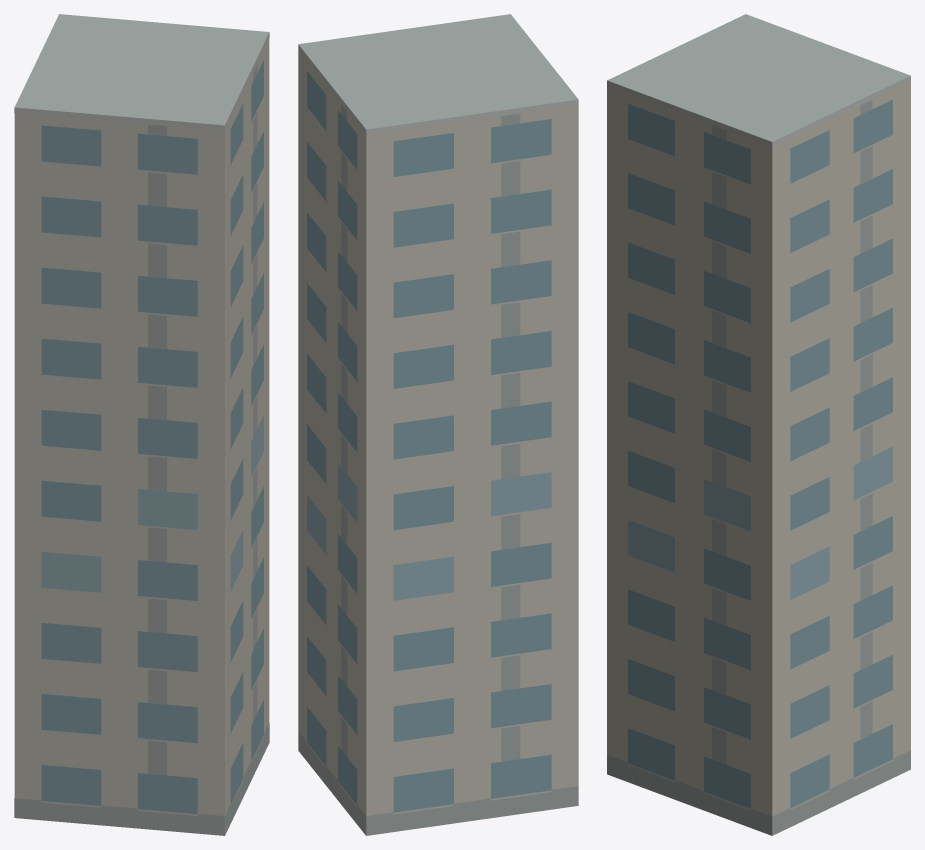
Rendered from residential-cf1c0f61-170d-4b6c-8019-ff70e187ef4f.glb.
3 renders of one model, left to right at view 1: azimuth 30°, elevation 25°; view 2: azimuth 150°, elevation 25°; view 3: azimuth 270°, elevation 25°, orthographic. The views are drawn at different scales.
Parts seen in each view (by area): view 1: residential-cf1c0f61-170d-4b6c-8019-ff70e187ef4f.tmp; view 2: residential-cf1c0f61-170d-4b6c-8019-ff70e187ef4f.tmp; view 3: residential-cf1c0f61-170d-4b6c-8019-ff70e187ef4f.tmp.
Boxes of the visible parts, x1=… form: residential-cf1c0f61-170d-4b6c-8019-ff70e187ef4f.tmp: x1=14, y1=14, x2=269, y2=835; residential-cf1c0f61-170d-4b6c-8019-ff70e187ef4f.tmp: x1=298, y1=14, x2=578, y2=835; residential-cf1c0f61-170d-4b6c-8019-ff70e187ef4f.tmp: x1=607, y1=14, x2=910, y2=835.
Bounding box in the file's own units: 11.87 × 30 × 11.91.
